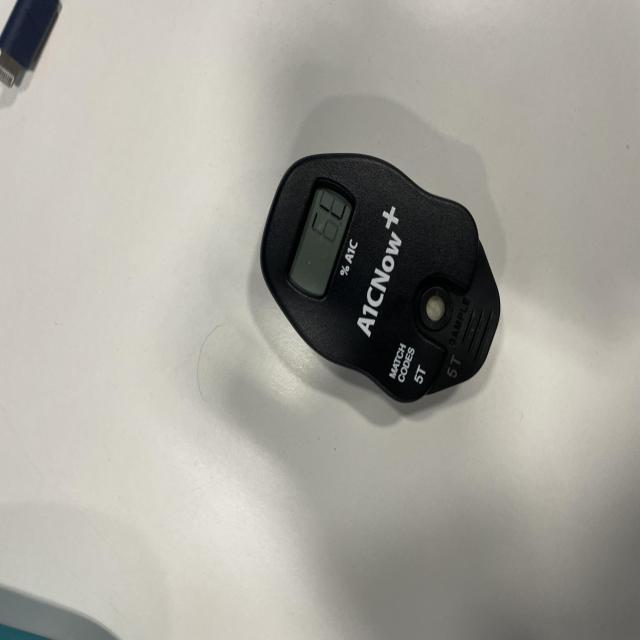hba1c: (259, 154, 502, 407)
